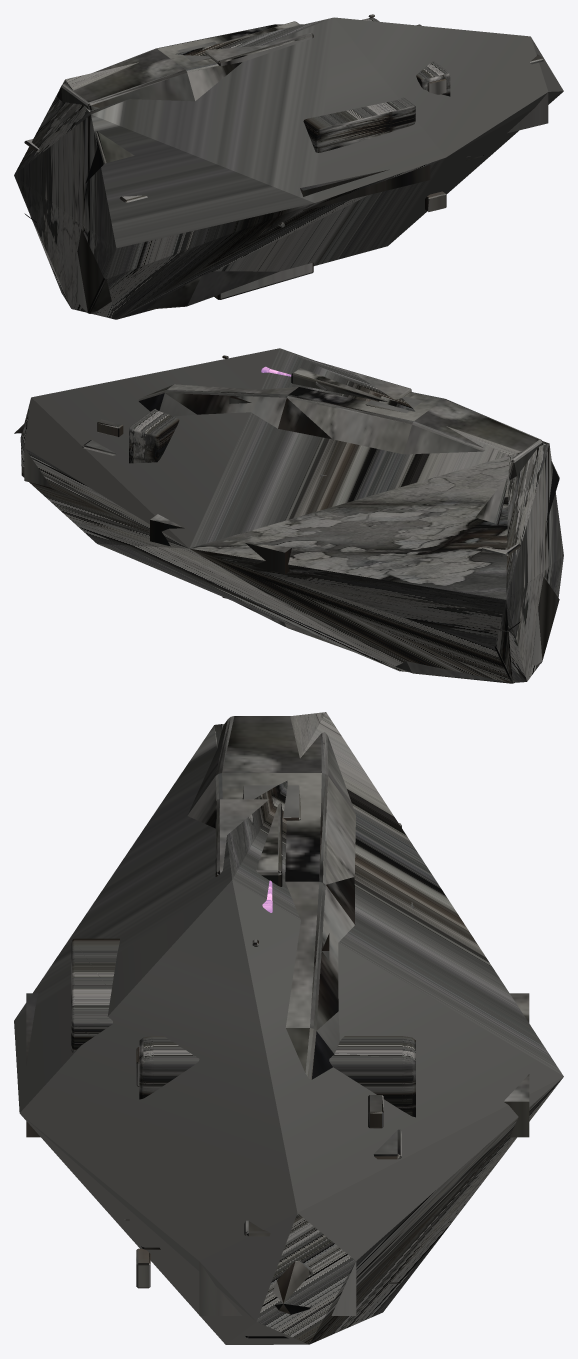
Rendered from hull_capital.glb.
3 views of the same model, one above another, from view 1: azimuth 30°, elevation 25°; view 2: azimuth 150°, elevation 25°; view 3: azimuth 270°, elevation 25° (orthographic). The views are drawn at different scales.
Visible parts, largest first — view 1: LOD2_HULL_CAPITAL_SILHOUETTE, LOD0_HULL_CAPITAL_MAIN, LOD0_DET_dread_panel, LOD0_DET_cathedral_rib.001; view 2: LOD2_HULL_CAPITAL_SILHOUETTE, LOD0_HULL_CAPITAL_MAIN, LOD0_DET_cathedral_rib.001; view 3: LOD2_HULL_CAPITAL_SILHOUETTE, LOD0_HULL_CAPITAL_MAIN, LOD0_DET_cathedral_rib.001, LOD0_DET_dread_panel.
Boxes of the visible parts, bbox=[...] form: LOD2_HULL_CAPITAL_SILHOUETTE: bbox=[14, 17, 563, 319]; LOD0_HULL_CAPITAL_MAIN: bbox=[24, 14, 548, 313]; LOD0_DET_dread_panel: bbox=[303, 97, 415, 152]; LOD0_DET_cathedral_rib.001: bbox=[362, 17, 450, 96]; LOD2_HULL_CAPITAL_SILHOUETTE: bbox=[20, 348, 563, 682]; LOD0_HULL_CAPITAL_MAIN: bbox=[14, 355, 559, 683]; LOD0_DET_cathedral_rib.001: bbox=[129, 409, 179, 463]; LOD2_HULL_CAPITAL_SILHOUETTE: bbox=[14, 712, 563, 1344]; LOD0_HULL_CAPITAL_MAIN: bbox=[26, 716, 529, 1338]; LOD0_DET_cathedral_rib.001: bbox=[139, 1036, 415, 1117]; LOD0_DET_dread_panel: bbox=[71, 938, 119, 1052].
Size of the model in its own units: 14.27 by 6.84 by 7.71.
Materials: 3 (3 with a texture image).
